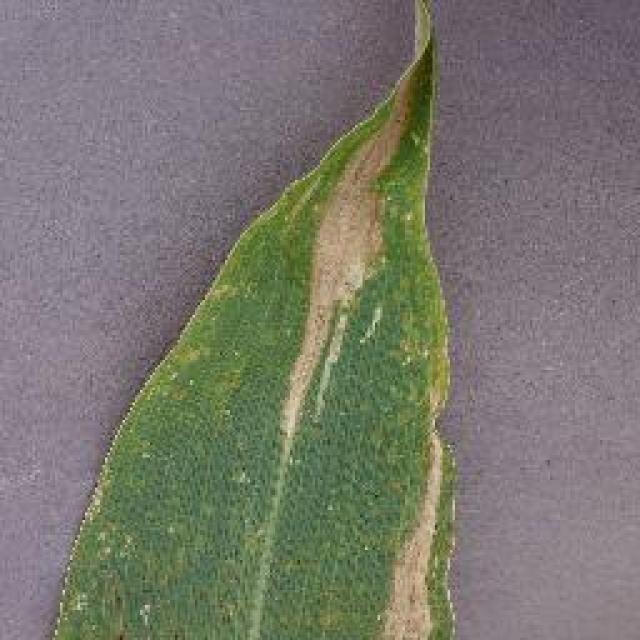Corn___Northern_Leaf_Blight: (226, 10, 438, 418)
